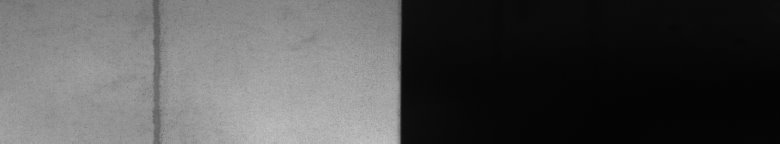hd: (147, 4, 167, 136)
